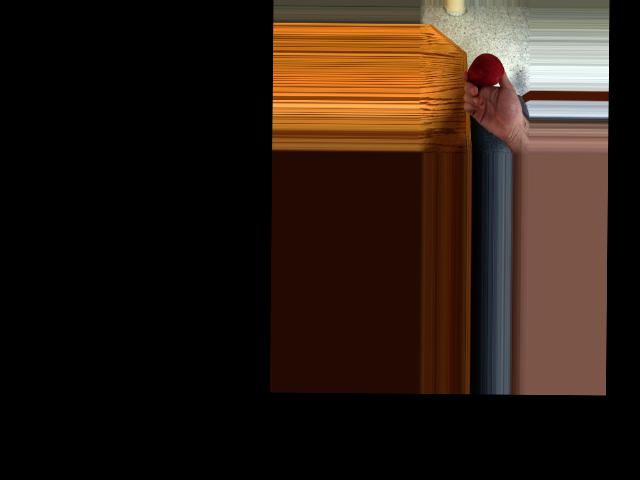apple: (467, 51, 506, 91)
